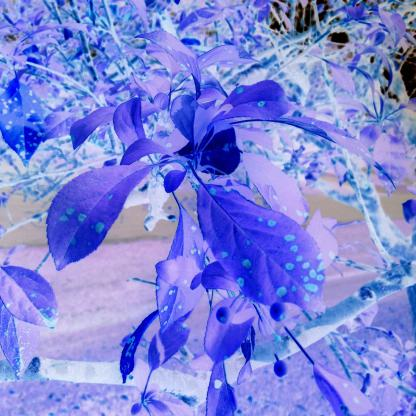apple scab leaf: (191, 175, 339, 314), (43, 148, 154, 286), (275, 107, 401, 196), (208, 76, 309, 141), (2, 262, 78, 336), (118, 295, 168, 392), (1, 74, 52, 166), (308, 355, 377, 416), (0, 311, 49, 386), (50, 166, 55, 170)
